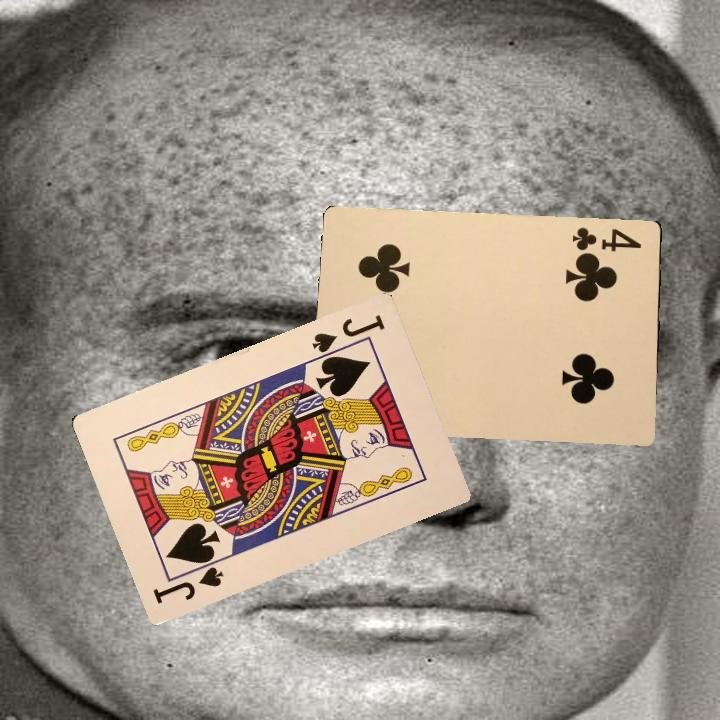4c: (569, 223, 643, 261)
Js: (309, 310, 388, 362), (149, 554, 226, 606)
